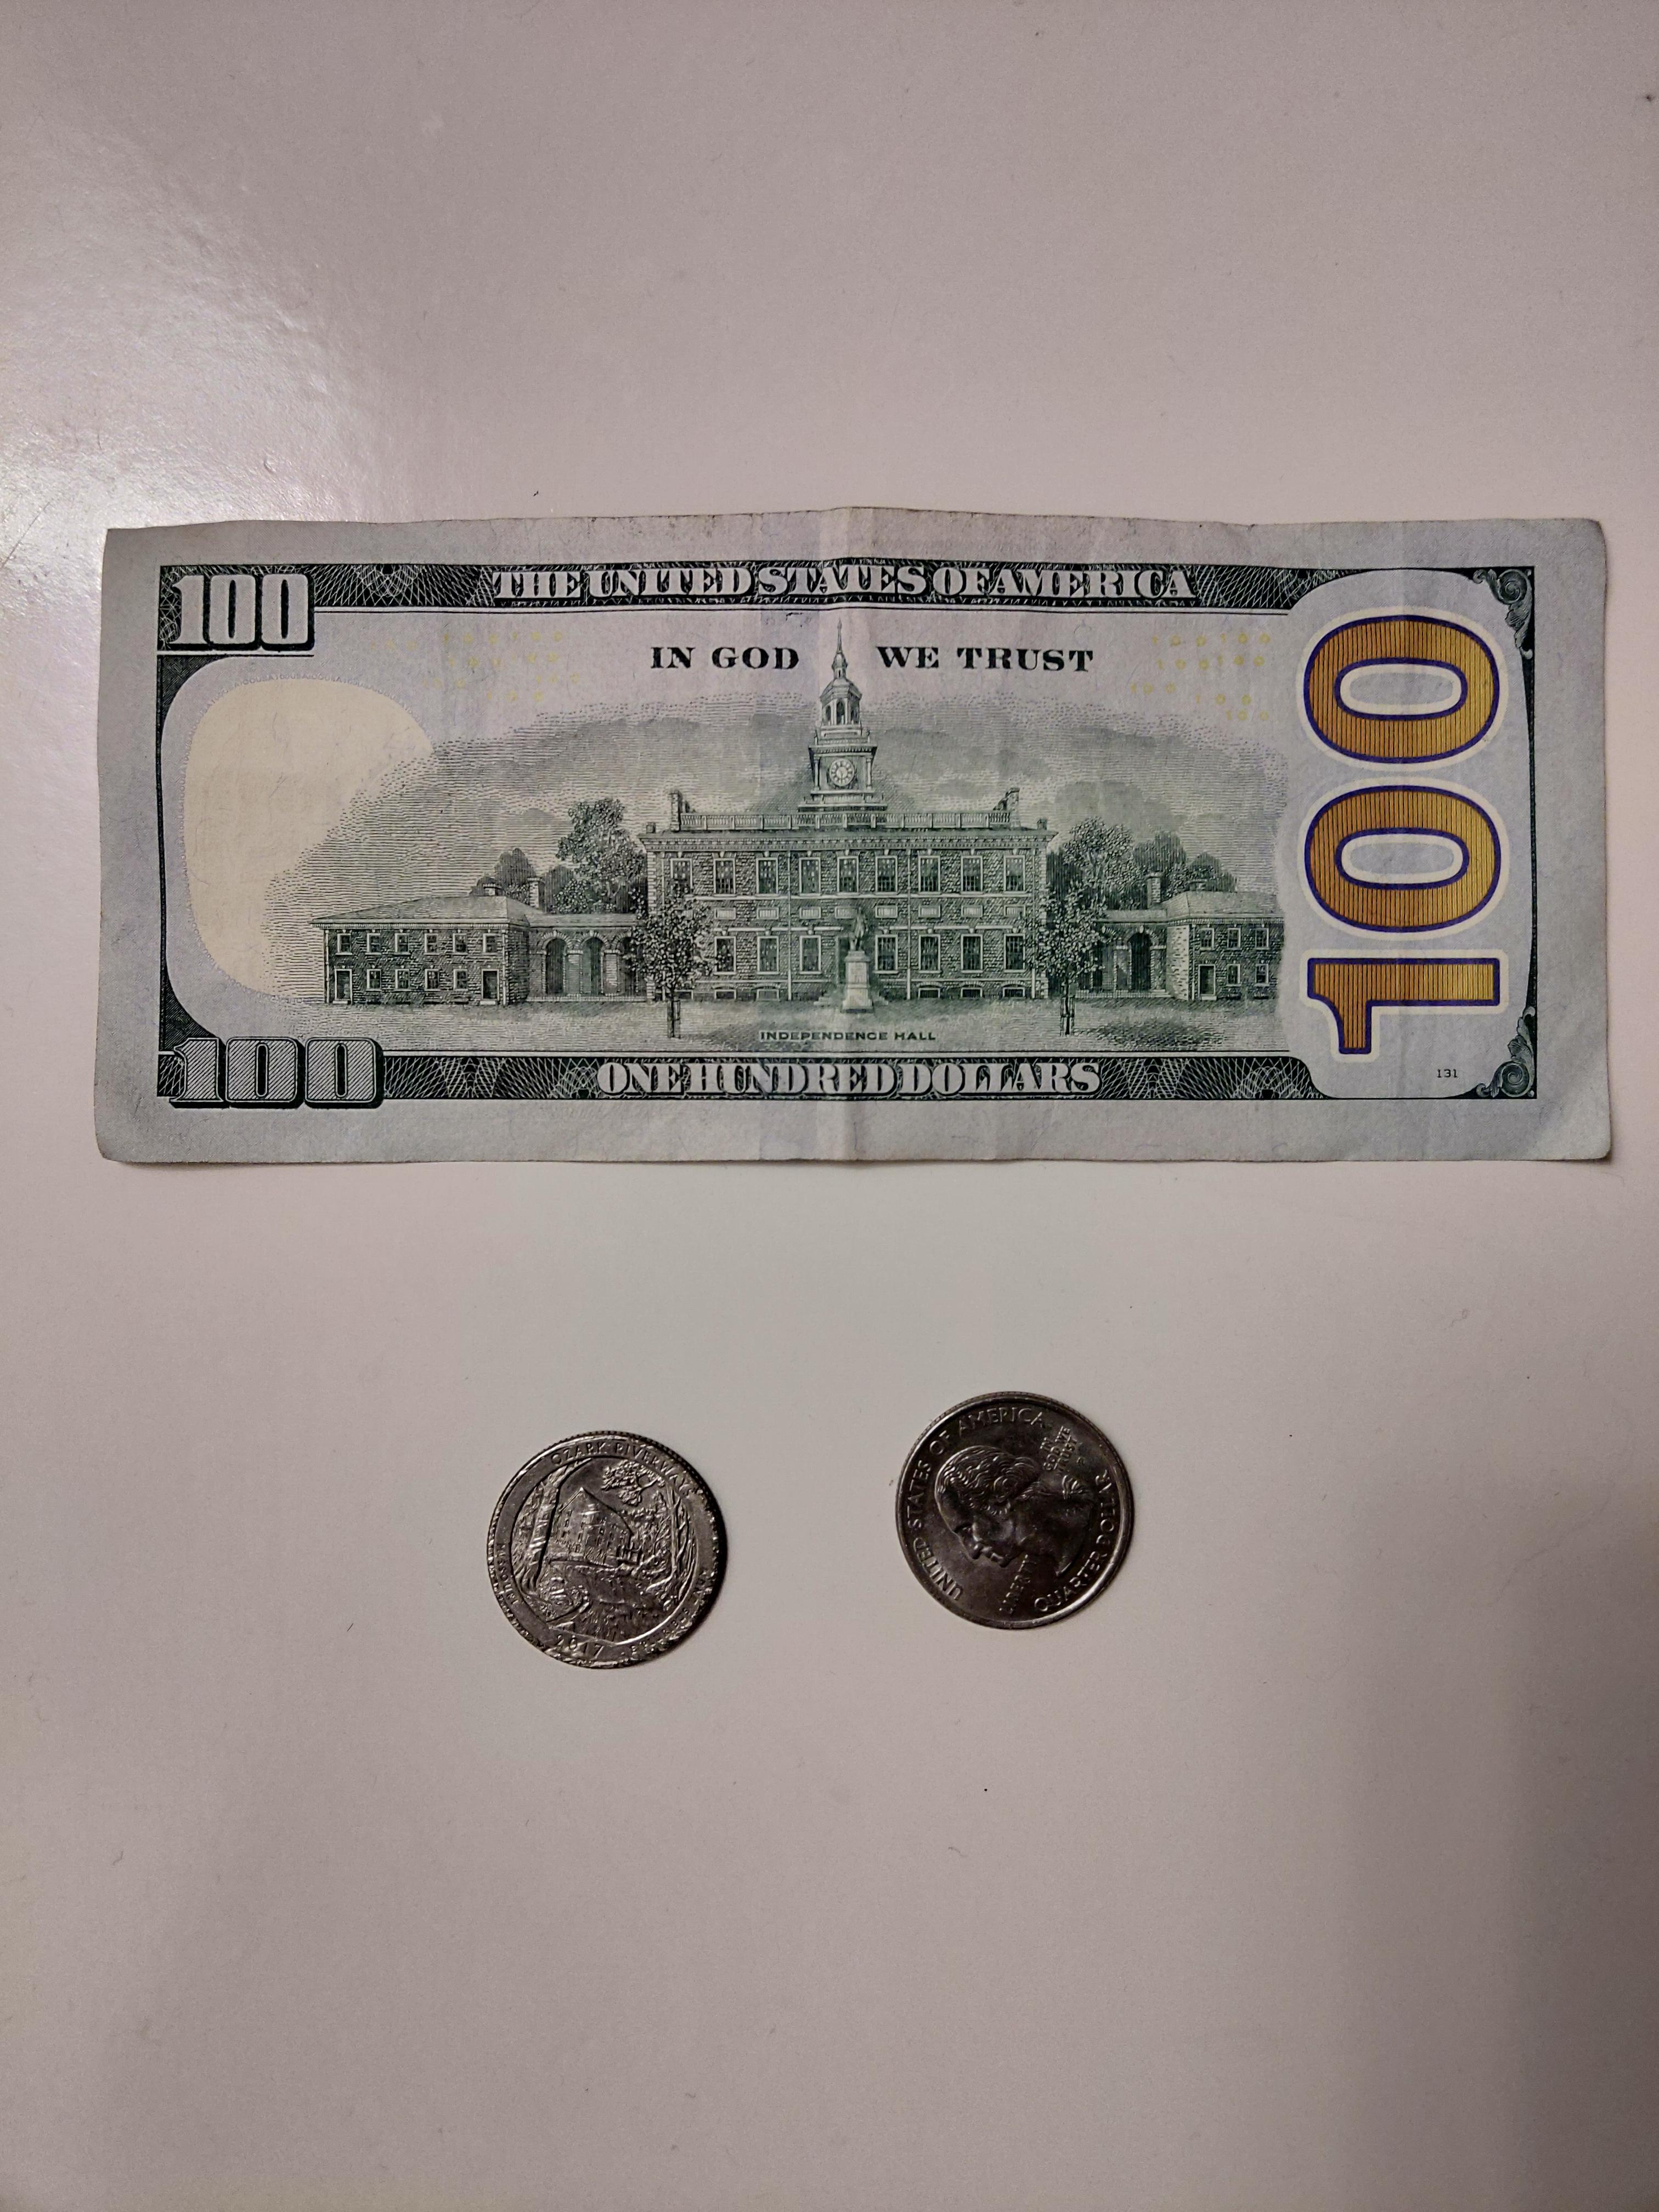HundredBill: (89, 500, 1621, 1169)
Quarter: (484, 1430, 728, 1672), (894, 1390, 1136, 1632)
